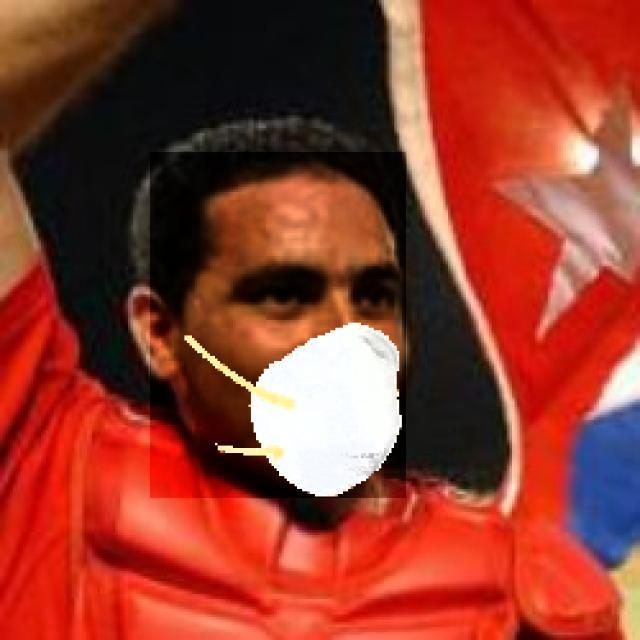n95: (150, 152, 406, 498)
